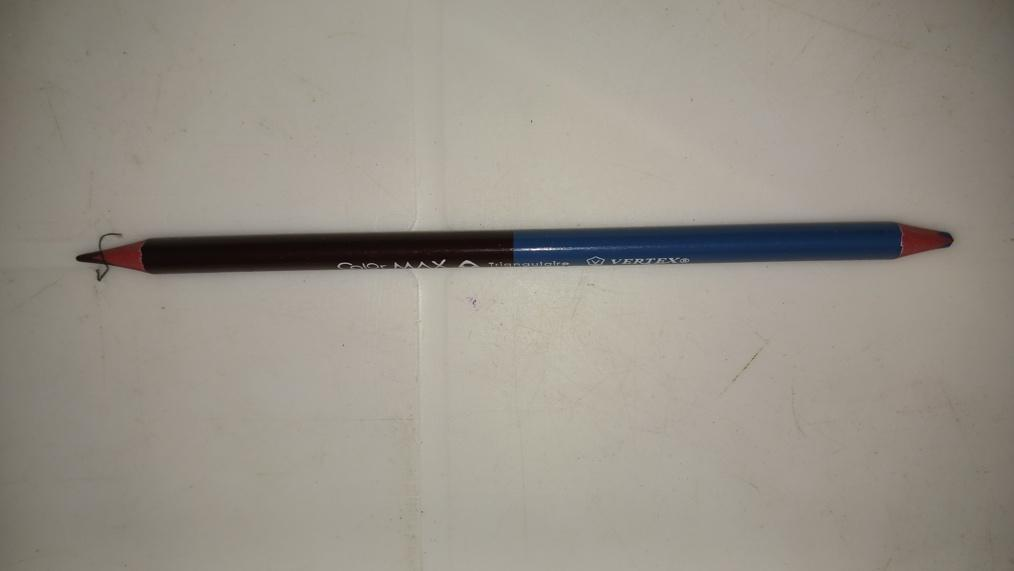Pencil: (73, 219, 960, 276)
